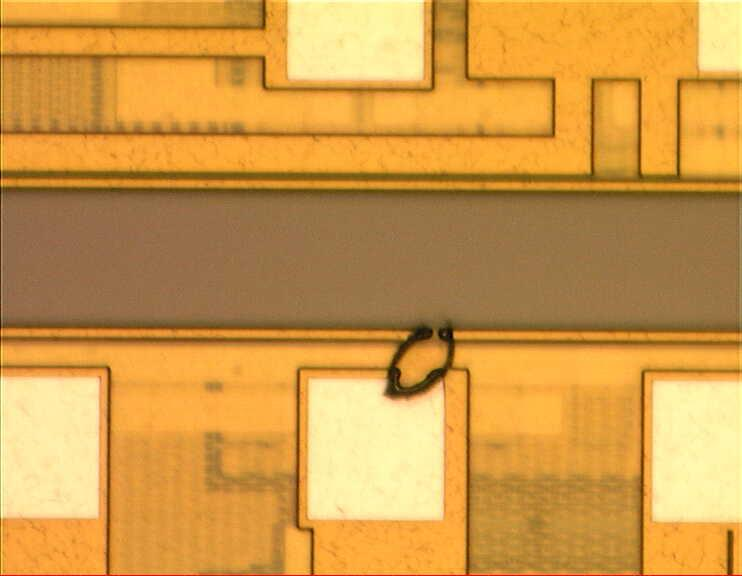BLOCK ETCH: (376, 319, 464, 408)
